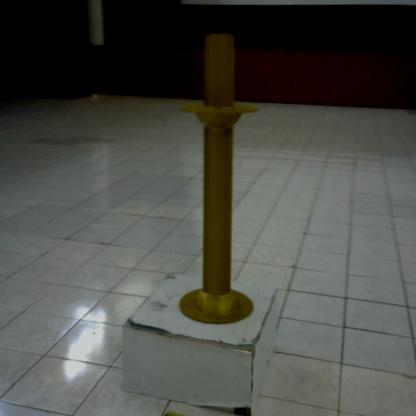pole: (177, 27, 263, 333)
